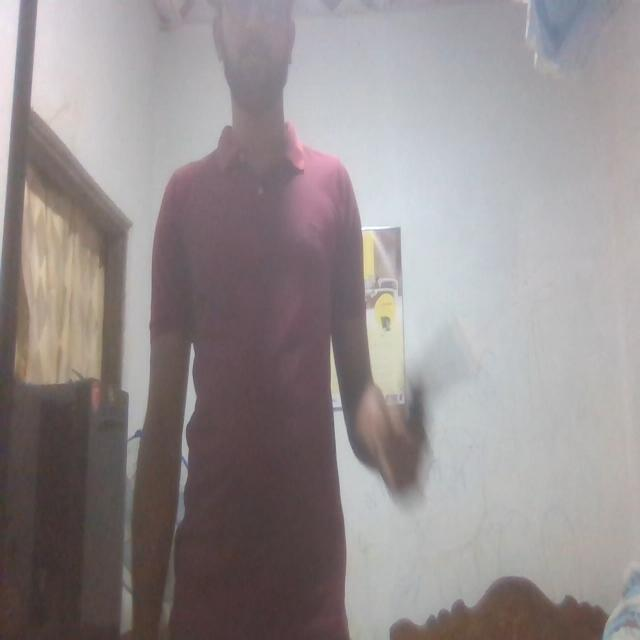Person: (124, 1, 420, 640)
